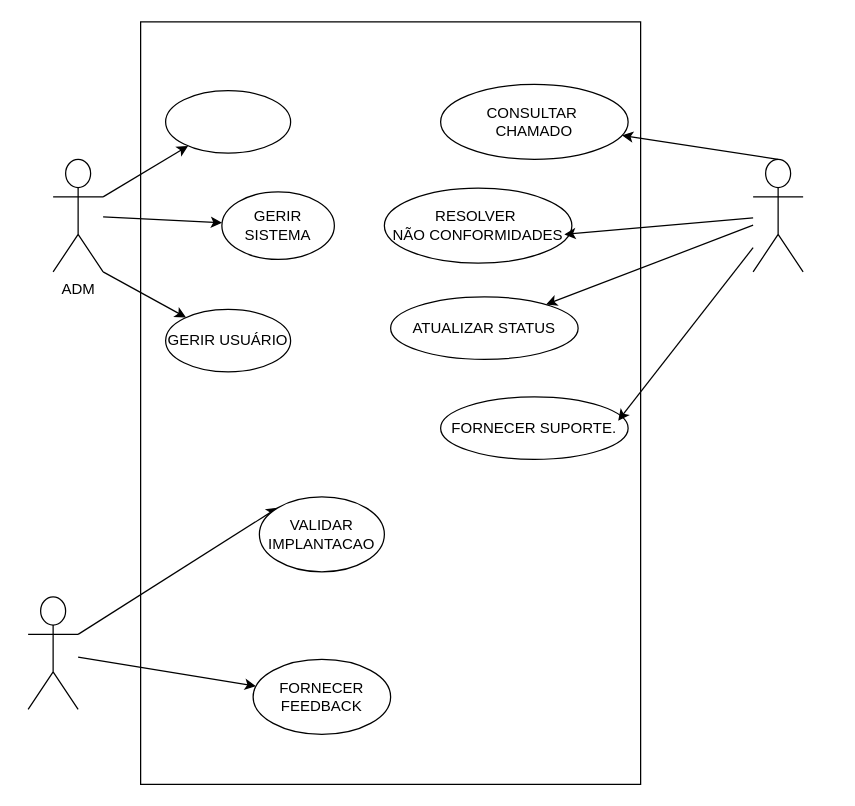
This 855x806 diagram has some shape labels left out. Each missing label, with the box of its shape:
CLIENTE: (27, 596, 78, 709)
ESPECIALISTA: (752, 158, 803, 272)
INICIAR IMPLANTACAO: (164, 89, 291, 153)
